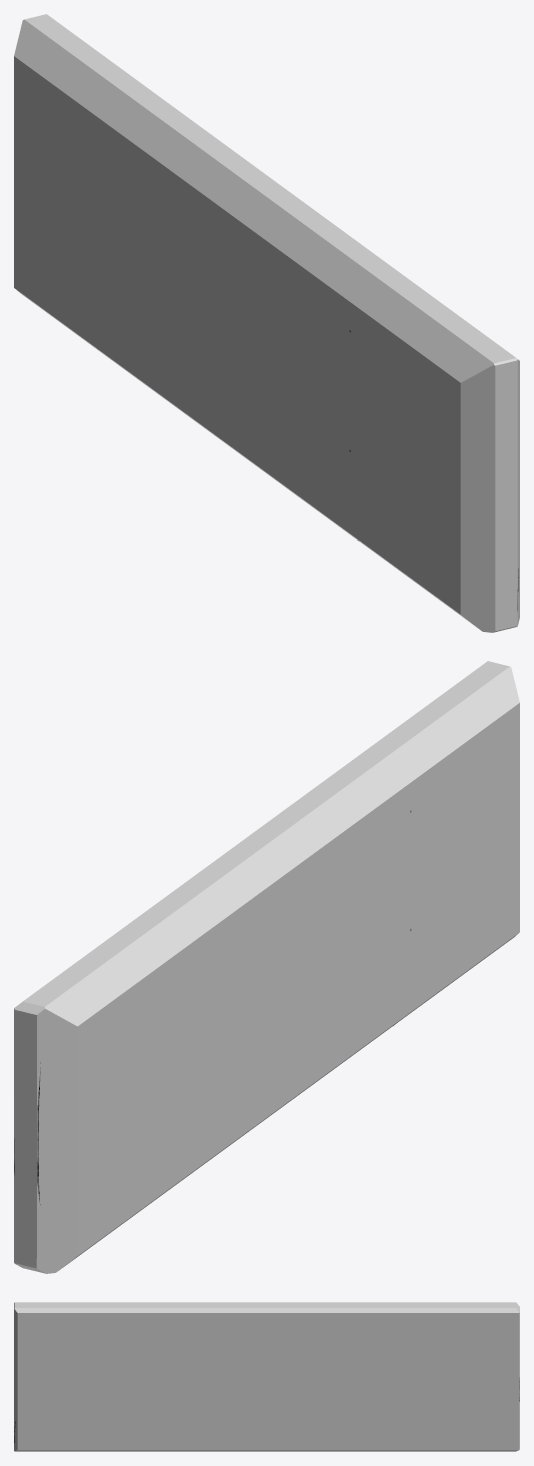
Rendered from SM_wood_fence_02.fbx.
3 renders of one model, top to bottom at view 1: azimuth 30°, elevation 25°; view 2: azimuth 150°, elevation 25°; view 3: azimuth 270°, elevation 25°, orthographic. The views are drawn at different scales.
Visible parts, largest first — view 1: SM_wood_fence_02_ConvexHulls; view 2: SM_wood_fence_02_ConvexHulls; view 3: SM_wood_fence_02_ConvexHulls.
Part boxes in pixels (x1,y1,x2,y2): SM_wood_fence_02_ConvexHulls: (14, 14, 519, 632); SM_wood_fence_02_ConvexHulls: (14, 661, 519, 1273); SM_wood_fence_02_ConvexHulls: (14, 1302, 519, 1451).
Size of the model in its own units: 26.3 by 423 by 132.
